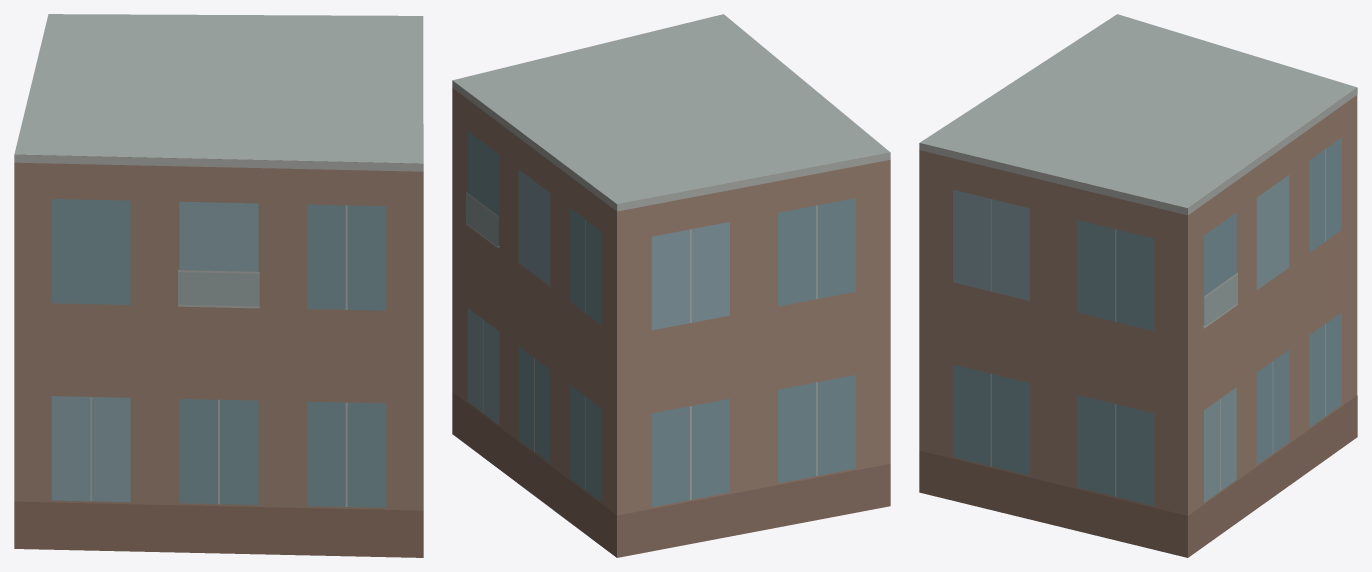
File: survey-upis-32947766.glb
3 renders of one model, left to right at view 1: azimuth 30°, elevation 25°; view 2: azimuth 150°, elevation 25°; view 3: azimuth 270°, elevation 25°, orthographic. The views are drawn at different scales.
Visible parts, largest first — view 1: survey-upis-32947766.tmp; view 2: survey-upis-32947766.tmp; view 3: survey-upis-32947766.tmp.
Boxes of the visible parts, x1=… form: survey-upis-32947766.tmp: x1=14, y1=14, x2=423, y2=557; survey-upis-32947766.tmp: x1=452, y1=14, x2=890, y2=557; survey-upis-32947766.tmp: x1=919, y1=14, x2=1357, y2=557.
Bounding box in the file's own units: 14.04 × 11.78 × 13.38.
